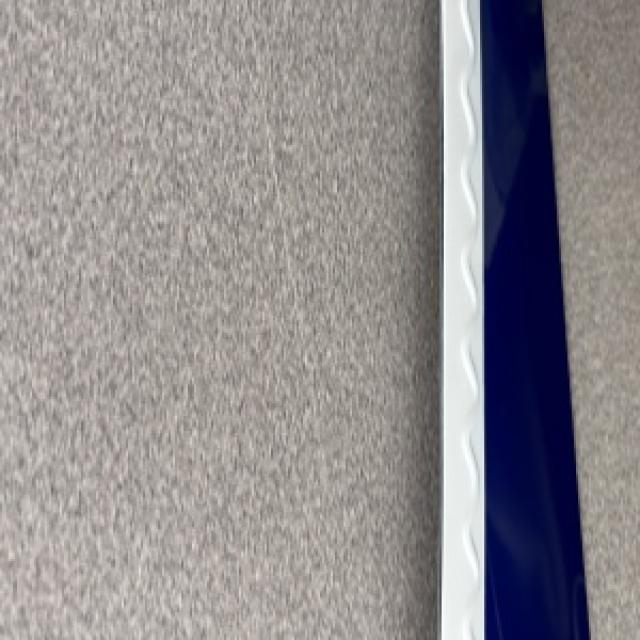healthy: (439, 0, 587, 638), (544, 0, 638, 638)
